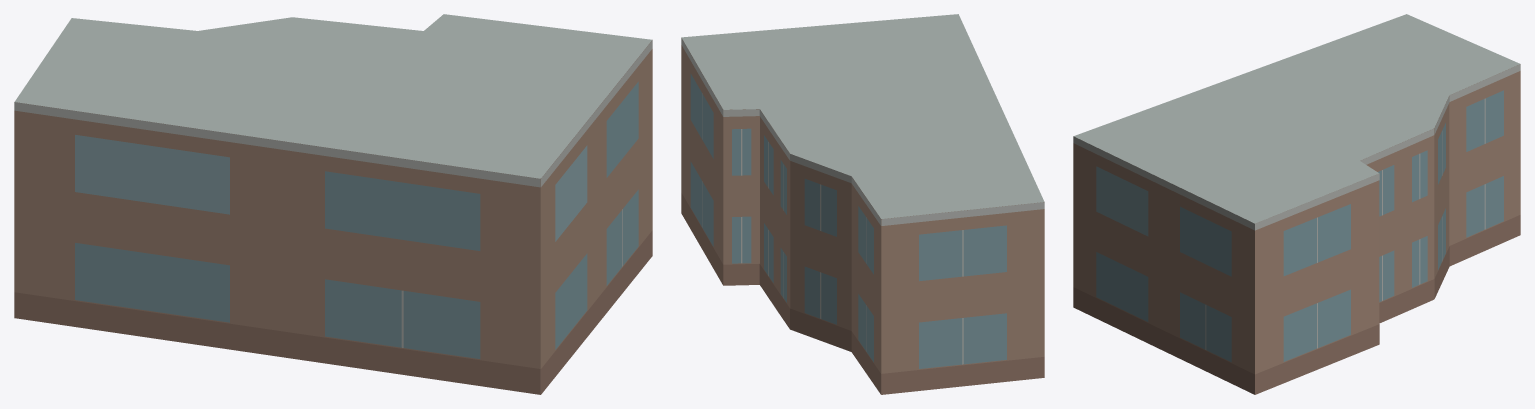
The model's file is survey-upis-32906247.glb.
3 views of the same model, side by side, from view 1: azimuth 30°, elevation 25°; view 2: azimuth 150°, elevation 25°; view 3: azimuth 270°, elevation 25° (orthographic). The views are drawn at different scales.
Visible parts, largest first — view 1: survey-upis-32906247.tmp; view 2: survey-upis-32906247.tmp; view 3: survey-upis-32906247.tmp.
Boxes of the visible parts, x1=… form: survey-upis-32906247.tmp: x1=14, y1=14, x2=652, y2=394; survey-upis-32906247.tmp: x1=681, y1=14, x2=1044, y2=394; survey-upis-32906247.tmp: x1=1073, y1=14, x2=1520, y2=394.
Size of the model in its own units: 16.03 by 6.1 by 14.45.
